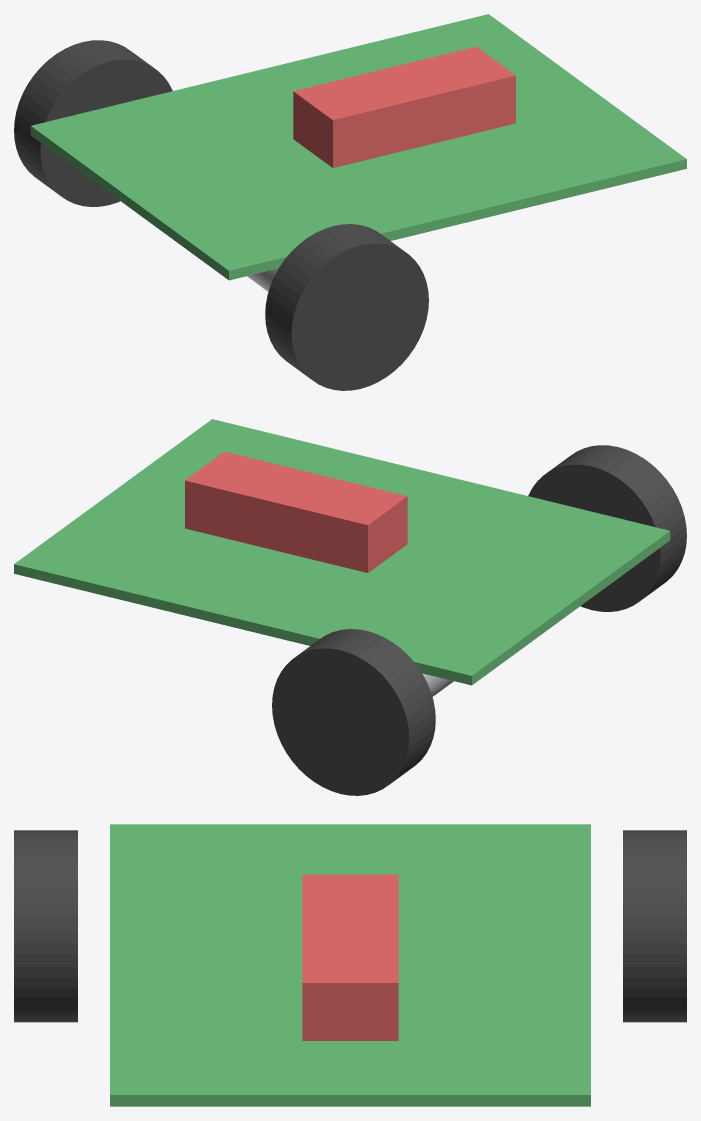
The model's file is chassis.glb.
The picture shows the model from 3 angles, top to bottom: view 1: azimuth 30°, elevation 25°; view 2: azimuth 150°, elevation 25°; view 3: azimuth 270°, elevation 25°; orthographic projection. The views are drawn at different scales.
Parts seen in each view (by area): view 1: plate, wheel_right, battery, wheel_left; view 2: plate, wheel_left, battery, wheel_right; view 3: plate, battery, wheel_left, wheel_right.
Part boxes in pixels (x1,y1,x2,y2): plate: [30, 14, 686, 280]; wheel_right: [265, 224, 428, 390]; battery: [293, 46, 515, 167]; wheel_left: [14, 40, 172, 206]; plate: [14, 419, 670, 685]; wheel_left: [272, 629, 435, 795]; battery: [185, 451, 407, 572]; wheel_right: [528, 445, 686, 611]; plate: [110, 824, 590, 1106]; battery: [302, 874, 398, 1040]; wheel_left: [623, 830, 686, 1022]; wheel_right: [14, 830, 77, 1022].
Size of the model in its own units: 0.2 by 0.0665 by 0.21.
